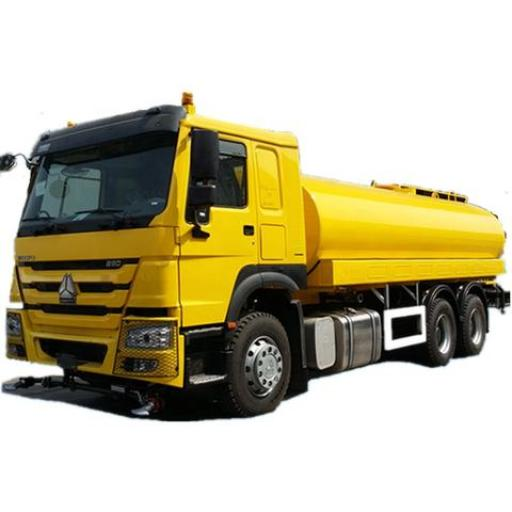truck: (4, 93, 509, 415)
